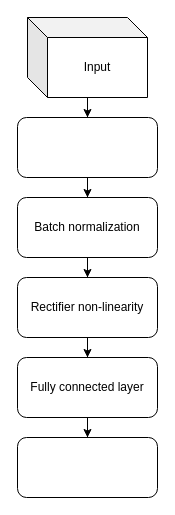
The diagram is 175 pixels wide and 515 high, and some of its shapes have lost their labels. Here are the shapes that lost their labels. From the top down, the centre of each, then its label:
point 87,147: 2 convolutional filters (1x1)
point 87,467: Move probabilities p
